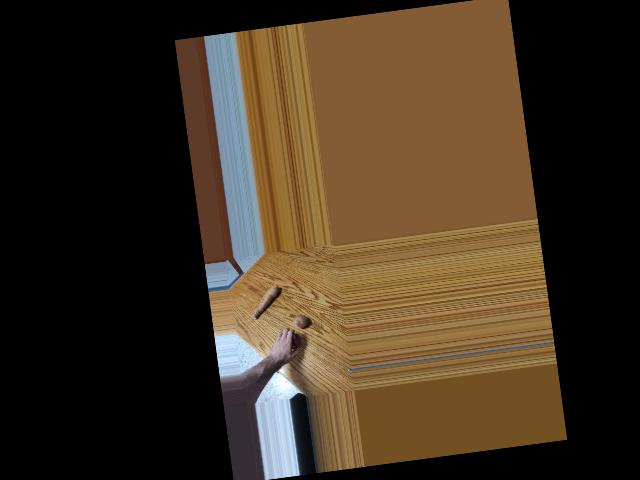onion: (284, 332, 300, 348)
